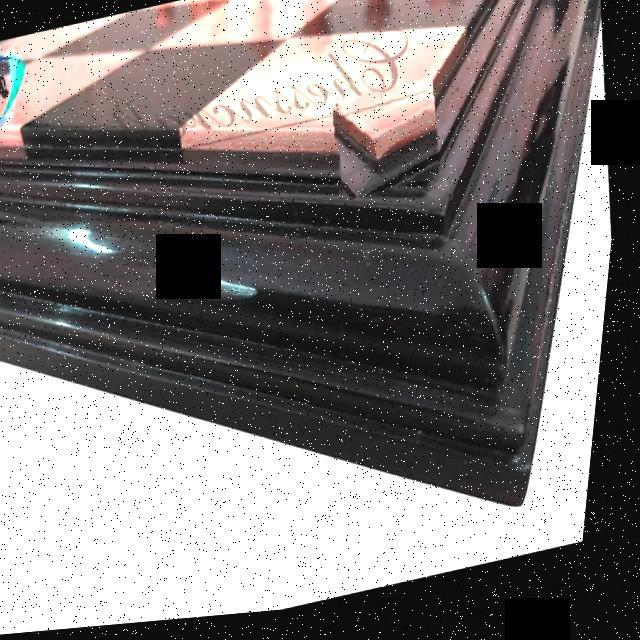chess-table-corners: (328, 87, 452, 209)
